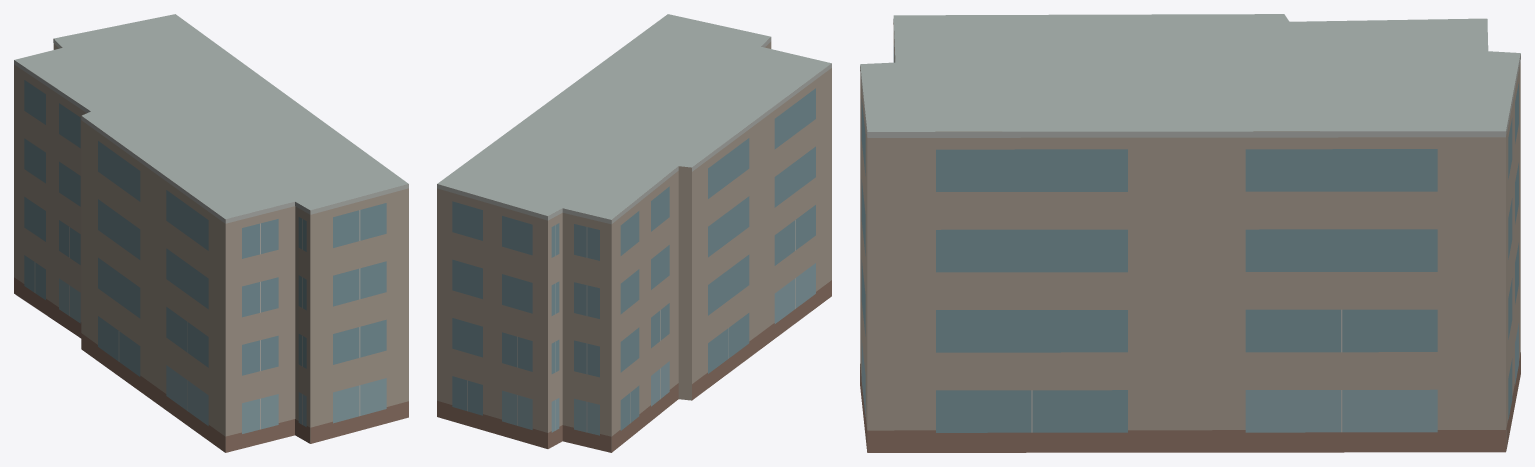
Rendered from survey-upis-33016803.glb.
3 renders of one model, left to right at view 1: azimuth 30°, elevation 25°; view 2: azimuth 150°, elevation 25°; view 3: azimuth 270°, elevation 25°, orthographic. The views are drawn at different scales.
Visible parts, largest first — view 1: survey-upis-33016803.tmp; view 2: survey-upis-33016803.tmp; view 3: survey-upis-33016803.tmp.
Boxes of the visible parts, <box> form: survey-upis-33016803.tmp: <box>14,14,408,452</box>; survey-upis-33016803.tmp: <box>437,14,831,452</box>; survey-upis-33016803.tmp: <box>860,14,1520,452</box>.
Size of the model in its own units: 10.09 by 12.8 by 23.88.
